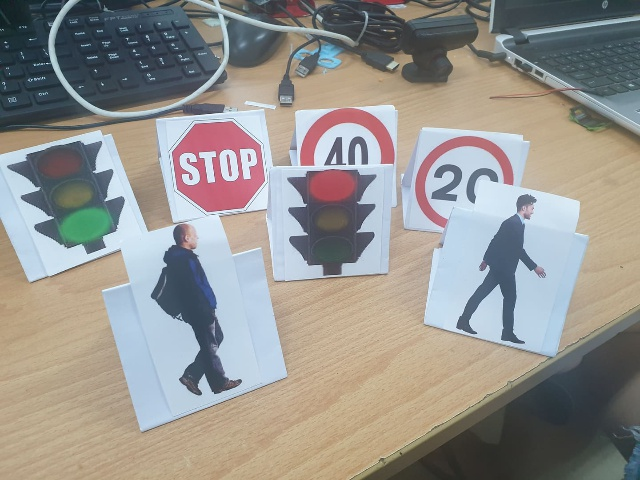Green: (6, 140, 126, 258)
Limit 20: (415, 136, 510, 208)
Limit 40: (299, 107, 395, 163)
Person: (149, 226, 243, 393), (464, 187, 550, 350)
Red: (283, 167, 375, 275)
Stop: (168, 118, 267, 212)
